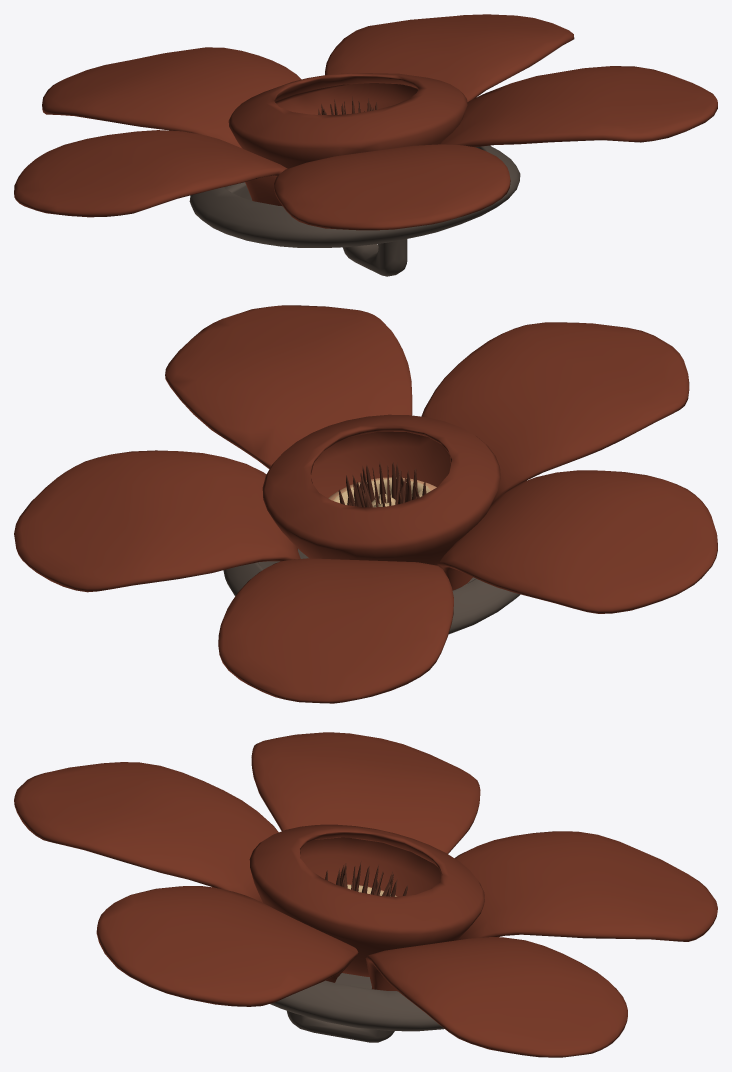
The model's file is Rafflesia.glb.
The picture shows the model from 3 angles, top to bottom: view 1: azimuth 30°, elevation 25°; view 2: azimuth 150°, elevation 25°; view 3: azimuth 270°, elevation 25°; orthographic projection.
Parts seen in each view (by area): view 1: RafflesiaShield; view 2: RafflesiaShield; view 3: RafflesiaShield.
Part boxes in pixels (x1,y1,x2,y2): RafflesiaShield: (14,14,717,276); RafflesiaShield: (14,305,717,703); RafflesiaShield: (14,732,717,1057).
Bounding box in the file's own units: 4.7 × 1.51 × 4.78.
